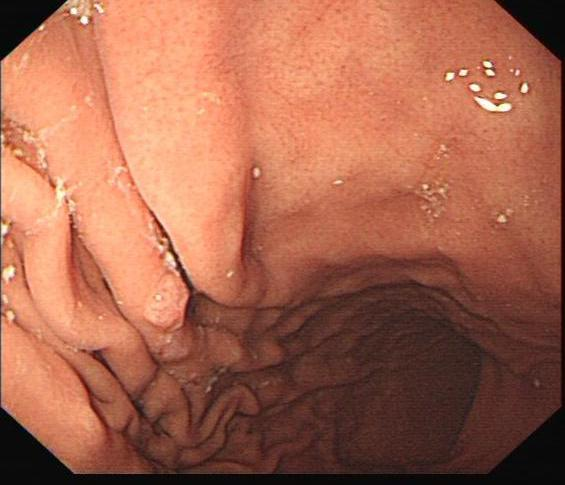Polyp: (140, 267, 193, 334)
